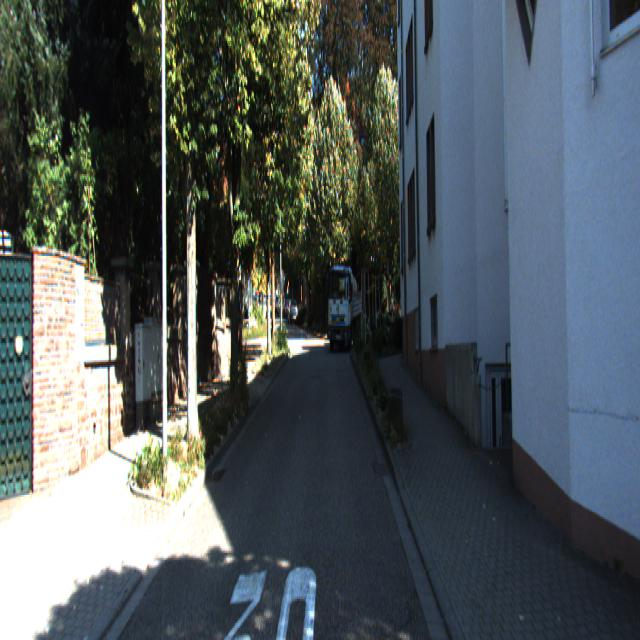Car: (327, 264, 362, 356), (288, 298, 298, 325)
